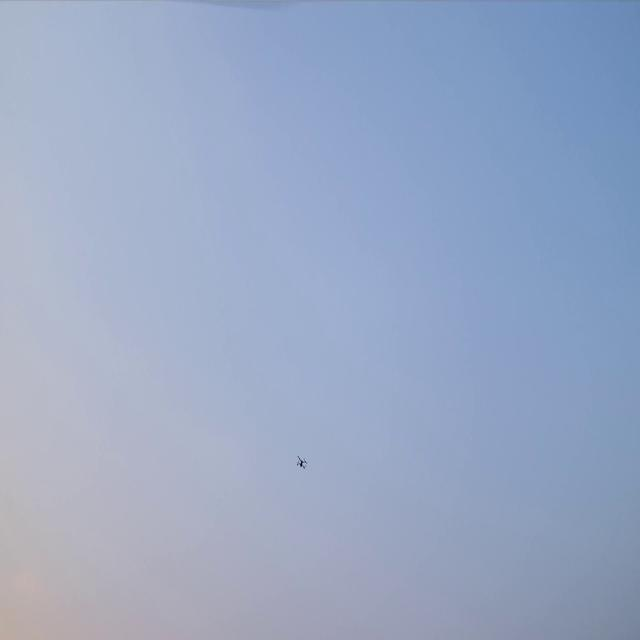UAV: (296, 453, 307, 470)
